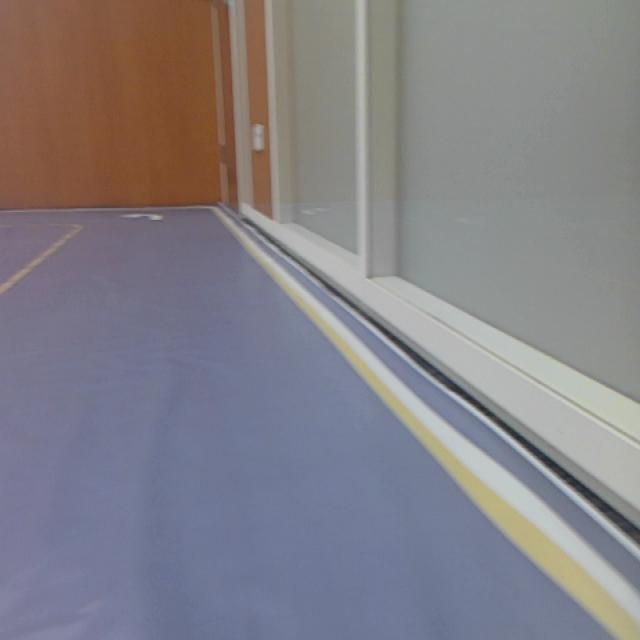left_lane: (0, 228, 81, 297)
right_lane: (212, 209, 640, 640)
